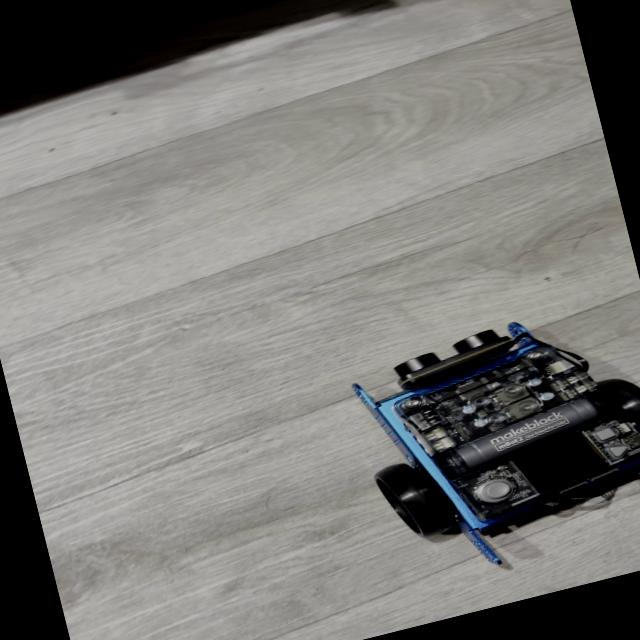mbot-detection: (317, 280, 640, 607)
